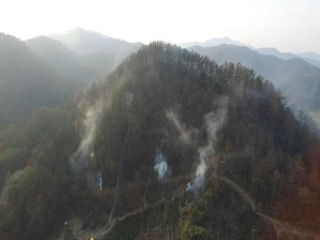smoke: (73, 93, 229, 195)
